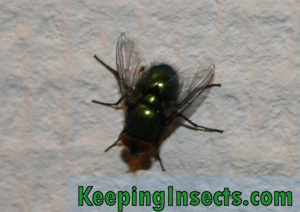green bottles flies: (82, 20, 235, 182)
